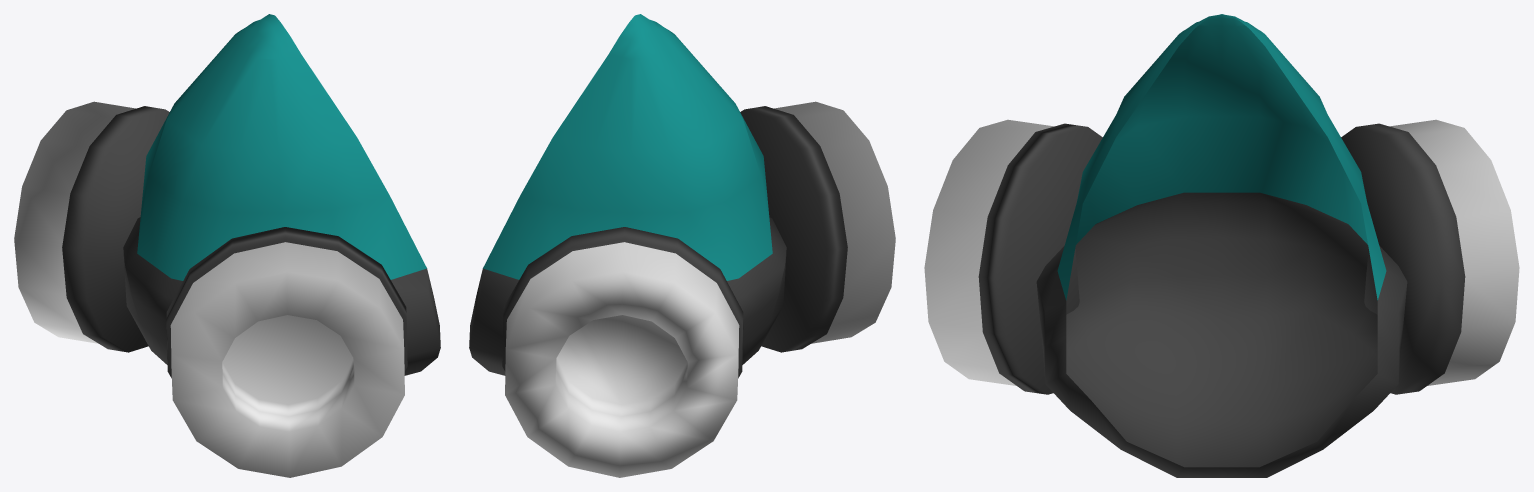
File: Mascara de oxigenio.fbx
3 renders of one model, left to right at view 1: azimuth 30°, elevation 25°; view 2: azimuth 150°, elevation 25°; view 3: azimuth 270°, elevation 25°, orthographic. The views are drawn at different scales.
Visible parts, largest first — view 1: mascara juntada; view 2: mascara juntada; view 3: mascara juntada.
Boxes of the visible parts, left/top/right/bottom form: mascara juntada: left=14, top=14, right=440, bottom=477; mascara juntada: left=469, top=14, right=895, bottom=477; mascara juntada: left=924, top=14, right=1519, bottom=477.
Bounding box in the file's own units: 26.61 × 31.47 × 41.79.
